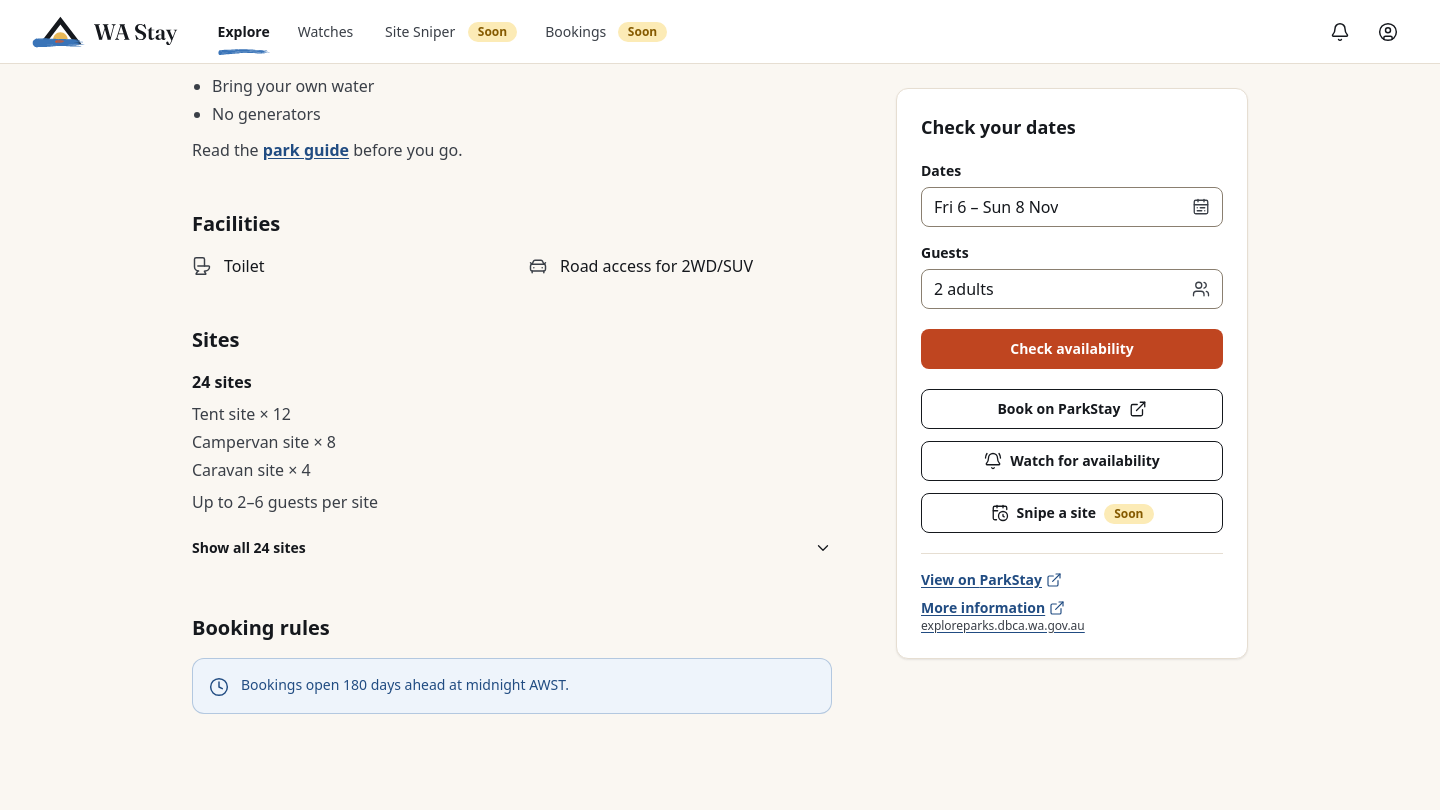
Test: Place detail page › summarises the sites: count, types, guests, and every name behind a disclosure
The image size is (1440, 810).
(page scrolled)
Expected: the text "24 sites" is shown, left=192, top=371, right=252, bottom=393
Expected: the list item "Tent site × 12" is shown, left=192, top=403, right=291, bottom=425
Click the button "Show all 24 sites".
click(249, 548)  # box left=192, top=530, right=832, bottom=566
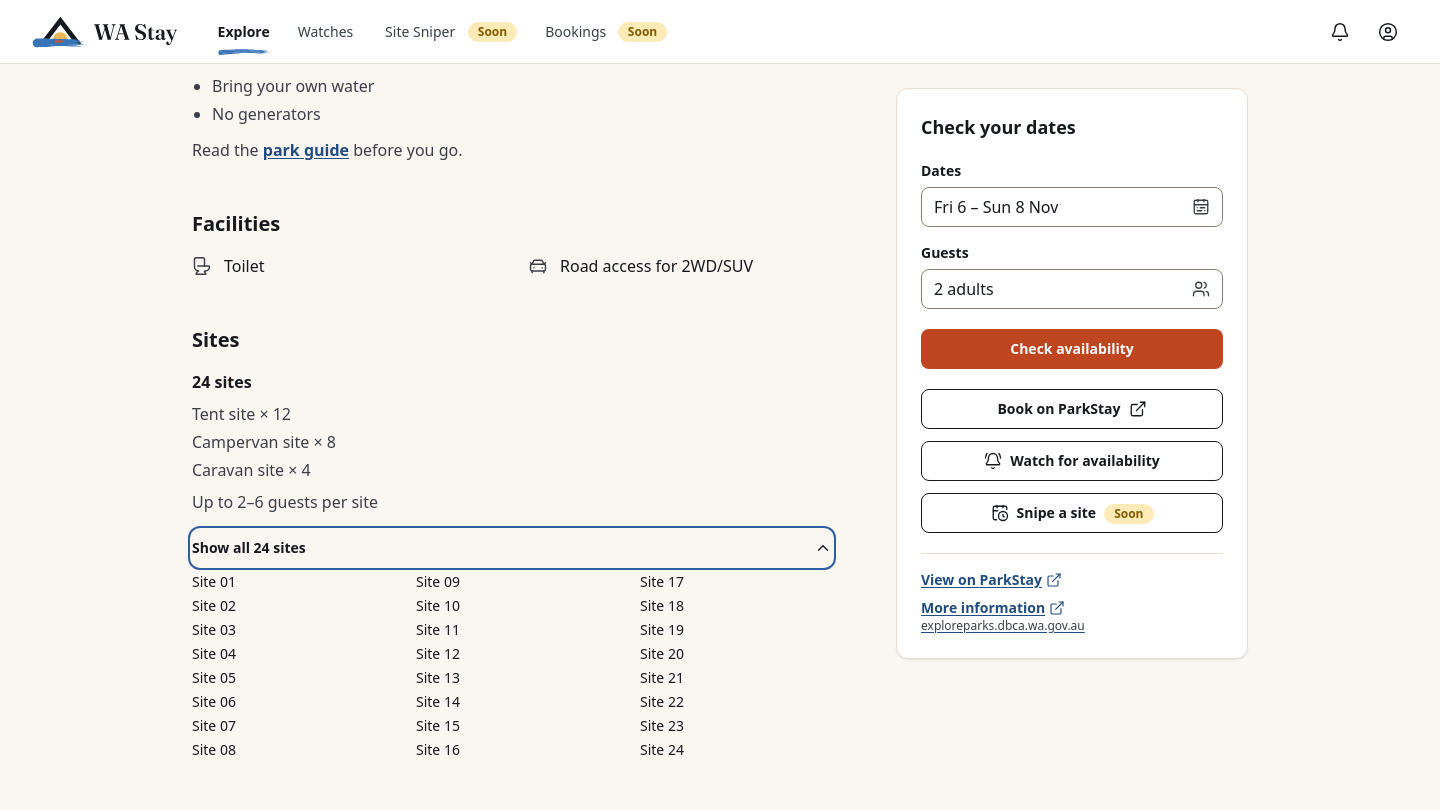
Result: the list item "Site 24" is shown at left=640, top=740, right=684, bottom=759
